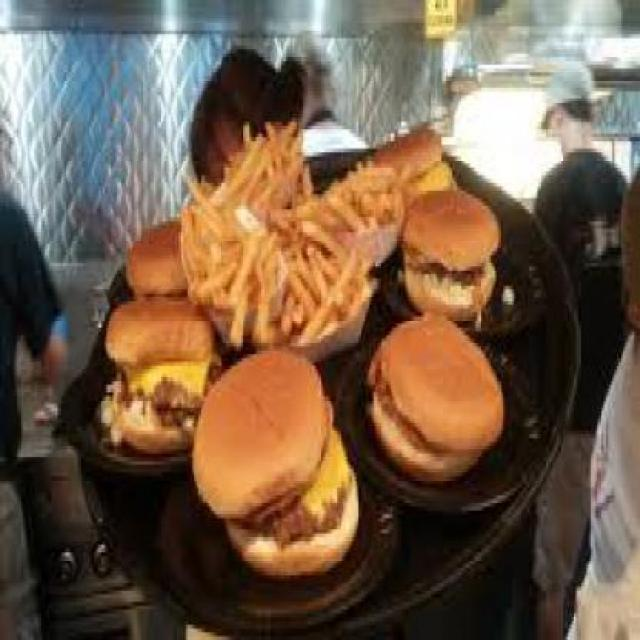french fries: (177, 118, 401, 354)
hamburger: (98, 114, 504, 583)
